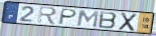2: (19, 5, 37, 23)
B: (97, 11, 118, 30)
M: (76, 9, 100, 28)
P: (57, 8, 78, 26)
R: (37, 5, 58, 26)
X: (117, 12, 138, 33)
